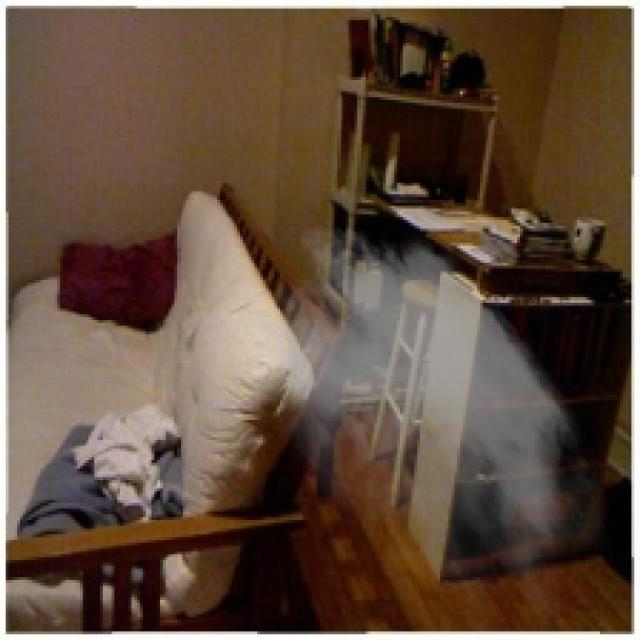smoke: (240, 212, 614, 634)
